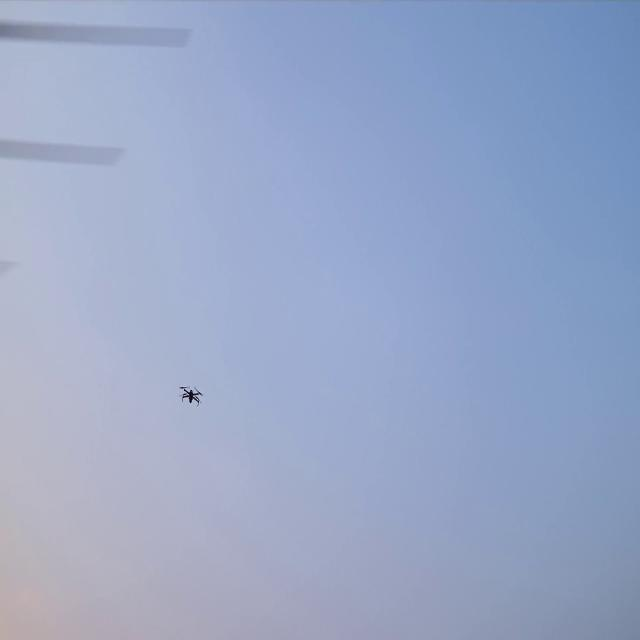UAV: (178, 384, 205, 408)
